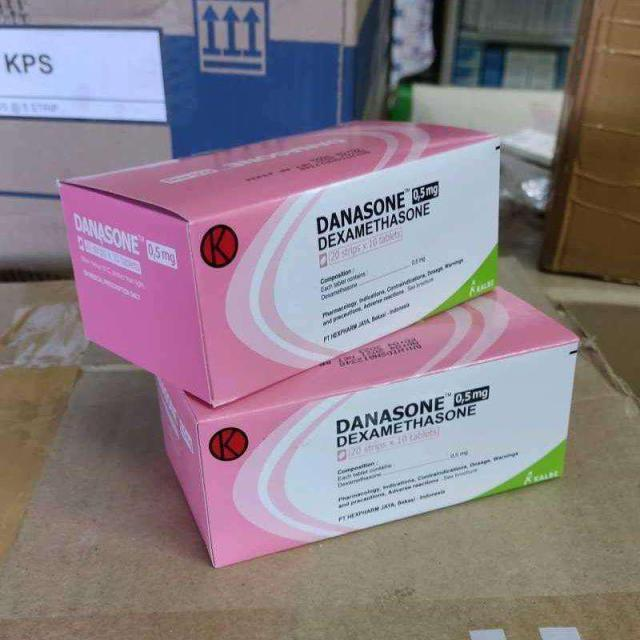drug-name: (328, 393, 449, 437)
